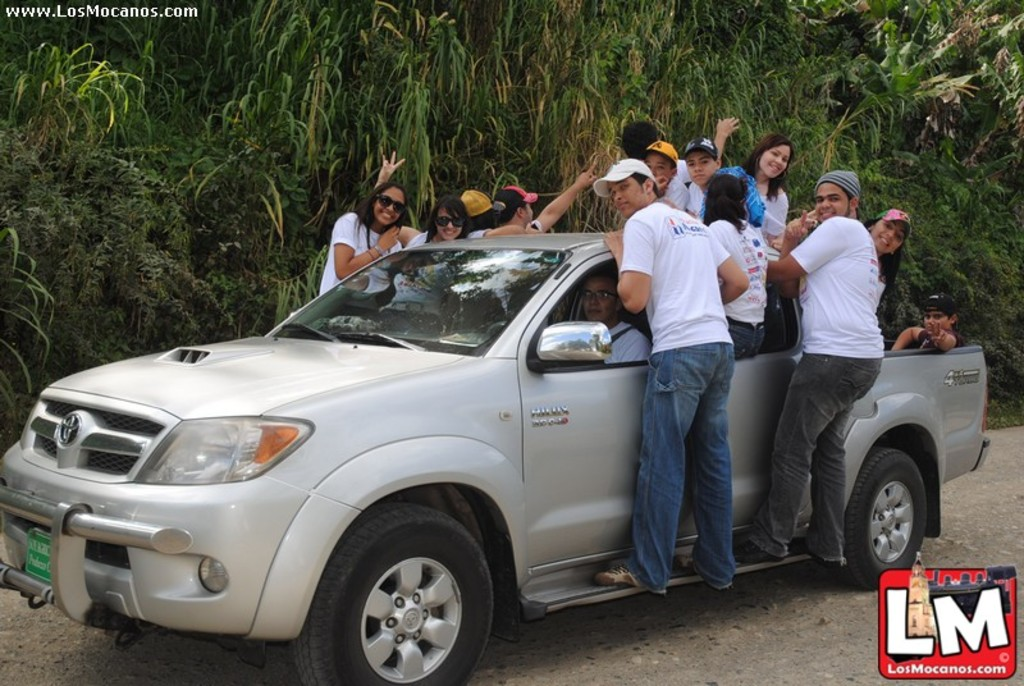Person: (319, 114, 965, 594)
